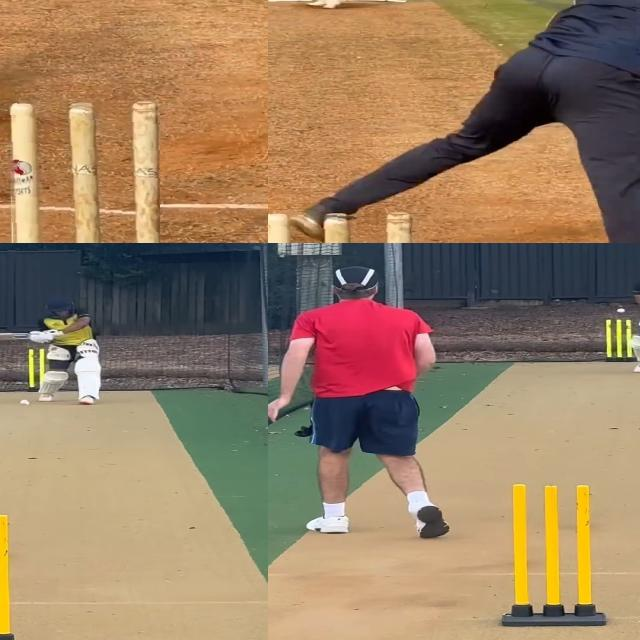Cricket ball: (18, 398, 32, 406), (616, 307, 627, 314)
Stumps: (8, 101, 160, 243), (506, 484, 603, 627), (0, 512, 28, 640), (604, 319, 633, 361)
